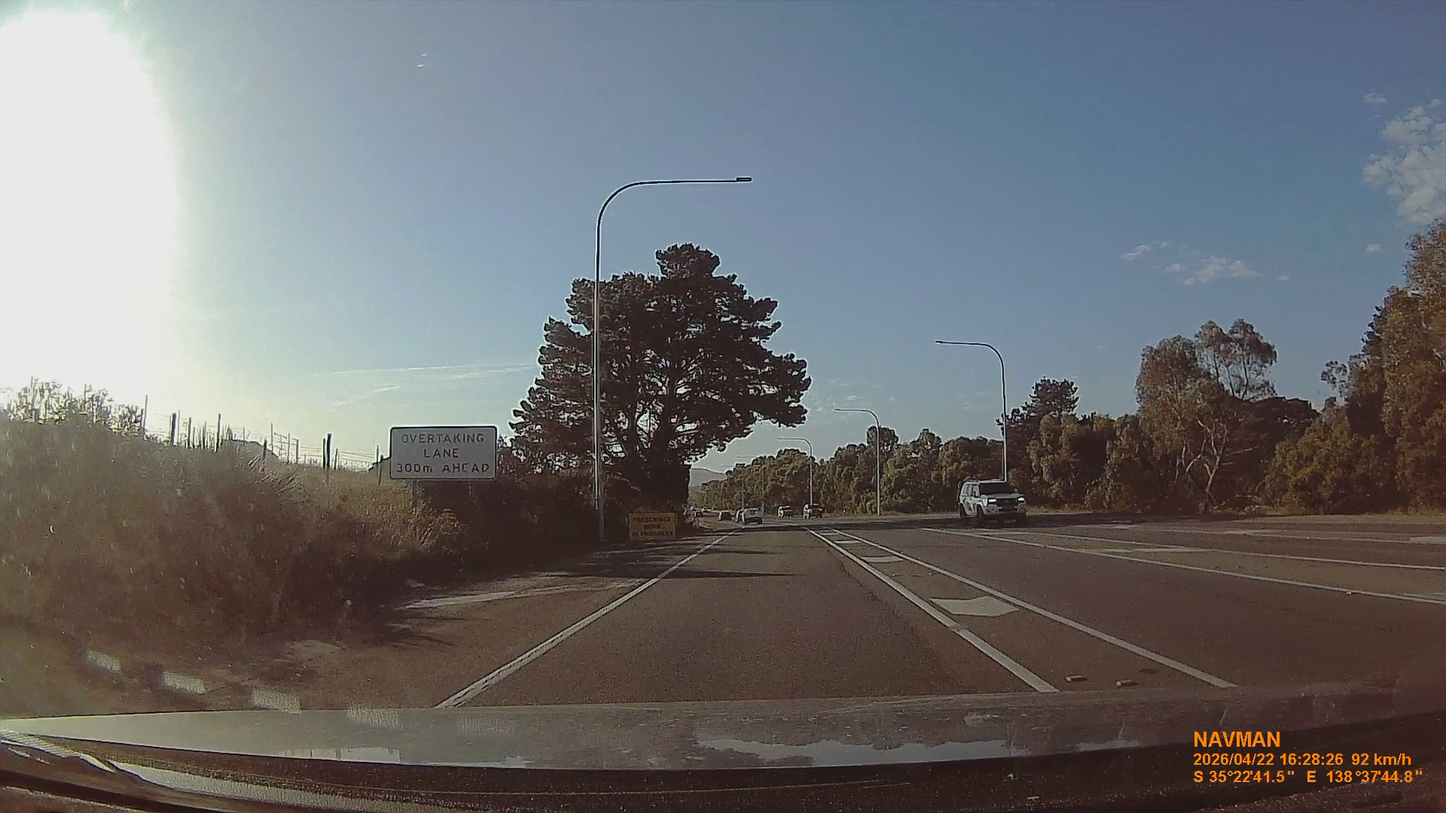road barriers: (625, 510, 683, 542)
